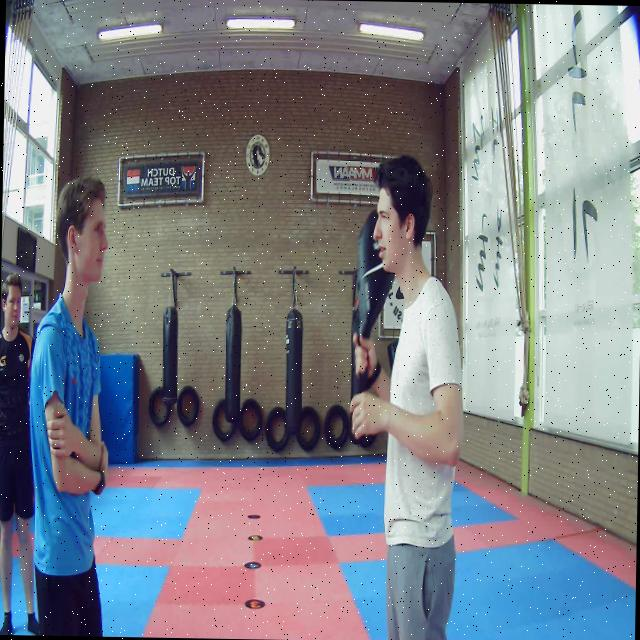paddle: (358, 209, 398, 341)
